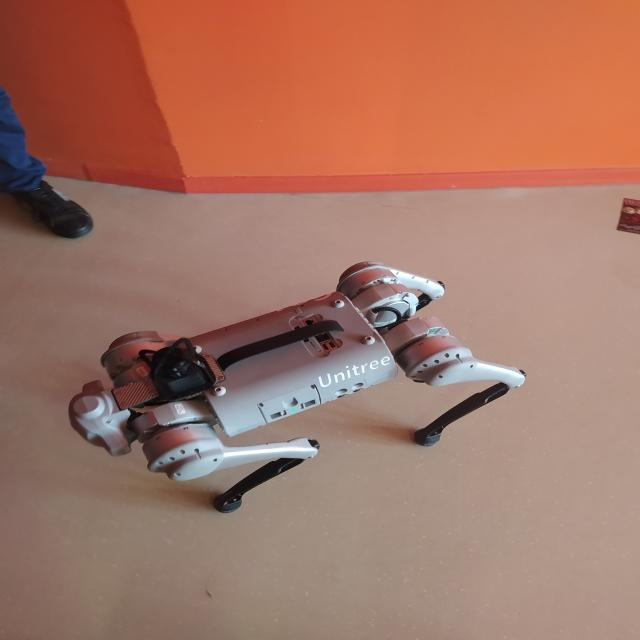unitree-go1-robot: (61, 254, 542, 516)
